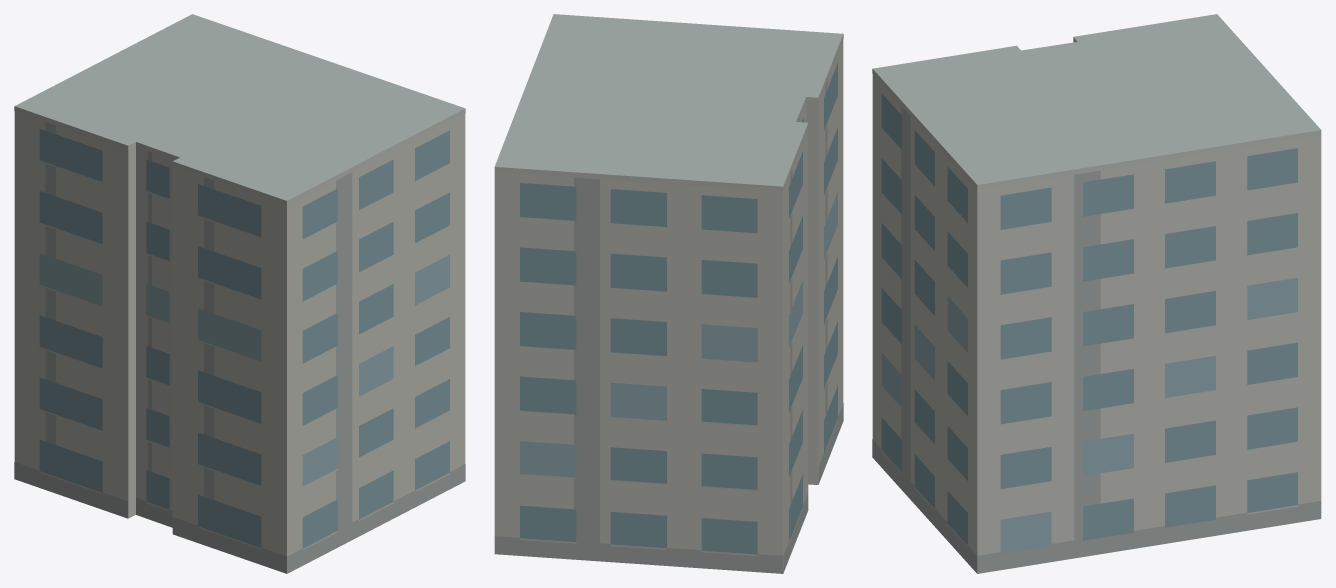
Rendered from survey-upis-32866799.glb.
3 renders of one model, left to right at view 1: azimuth 30°, elevation 25°; view 2: azimuth 150°, elevation 25°; view 3: azimuth 270°, elevation 25°, orthographic. The views are drawn at different scales.
Parts seen in each view (by area): view 1: survey-upis-32866799.tmp; view 2: survey-upis-32866799.tmp; view 3: survey-upis-32866799.tmp.
Part boxes in pixels (x1=…): survey-upis-32866799.tmp: x1=14, y1=14, x2=465, y2=573; survey-upis-32866799.tmp: x1=494, y1=14, x2=843, y2=573; survey-upis-32866799.tmp: x1=872, y1=14, x2=1321, y2=573.
Bounding box in the file's own units: 17.17 × 18.2 × 19.05.
